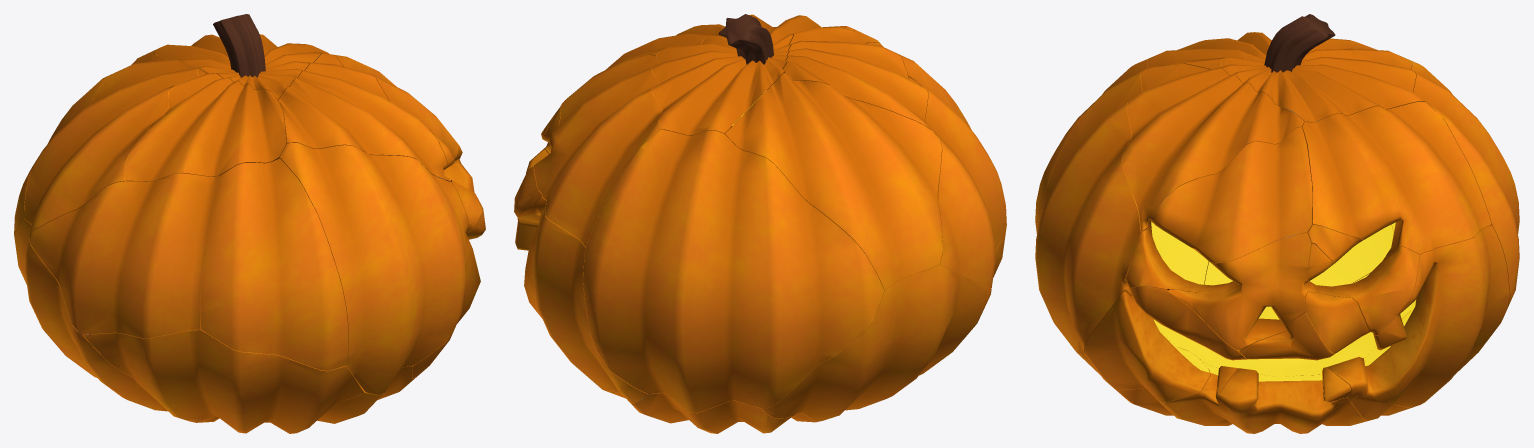
File: pumpkin_hollow_pieces.glb
3 views of the same model, side by side, from view 1: azimuth 30°, elevation 25°; view 2: azimuth 150°, elevation 25°; view 3: azimuth 270°, elevation 25° (orthographic). The views are drawn at different scales.
Visible parts, largest first — view 1: pumpkin_cell.011, pumpkin_cell.015, pumpkin_cell, pumpkin_cell.001, pumpkin_cell.010, pumpkin_cell.013, pumpkin_cell.014, pumpkin_cell.007, pumpkin_cell.021, pumpkin_cell.029, pumpkin_cell.018, pumpkin_cell.005 (+4 smaller); view 2: pumpkin_cell.020, pumpkin_cell.010, pumpkin_cell.007, pumpkin_cell.012, pumpkin_cell, pumpkin_cell.021, pumpkin_cell.016, pumpkin_cell.013, pumpkin_cell.019, pumpkin_cell.029, pumpkin_cell.014, pumpkin_cell.015 (+2 smaller); view 3: pumpkin_cell.012, pumpkin_cell.011, pumpkin_cell.016, pumpkin_cell.014, pumpkin_cell.018, pumpkin_cell.008, pumpkin_cell.021, pumpkin_cell.017, pumpkin_cell.024, pumpkin_cell.020, pumpkin_cell.005, pumpkin_cell.022 (+13 smaller).
Boxes of the visible parts, <box> form: pumpkin_cell.011: <box>279,143,468,394</box>; pumpkin_cell.015: <box>200,158,348,370</box>; pumpkin_cell: <box>29,173,220,338</box>; pumpkin_cell.001: <box>83,329,363,433</box>; pumpkin_cell.010: <box>24,55,199,236</box>; pumpkin_cell.013: <box>124,69,286,181</box>; pumpkin_cell.014: <box>278,53,450,181</box>; pumpkin_cell.007: <box>14,219,217,422</box>; pumpkin_cell.021: <box>156,34,322,99</box>; pumpkin_cell.029: <box>213,14,265,77</box>; pumpkin_cell.018: <box>332,54,457,168</box>; pumpkin_cell.005: <box>298,366,412,432</box>; pumpkin_cell.020: <box>583,129,884,412</box>; pumpkin_cell.010: <box>725,73,942,289</box>; pumpkin_cell.007: <box>762,265,991,421</box>; pumpkin_cell.012: <box>533,54,662,246</box>; pumpkin_cell: <box>908,77,1006,288</box>; pumpkin_cell.021: <box>651,29,793,135</box>; pumpkin_cell.016: <box>514,189,647,404</box>; pumpkin_cell.013: <box>767,27,935,134</box>; pumpkin_cell.019: <box>632,392,817,433</box>; pumpkin_cell.029: <box>718,14,773,64</box>; pumpkin_cell.014: <box>649,14,854,56</box>; pumpkin_cell.015: <box>866,42,971,129</box>; pumpkin_cell.012: <box>1302,101,1491,256</box>; pumpkin_cell.011: <box>1035,70,1152,352</box>; pumpkin_cell.016: <box>1327,225,1509,421</box>; pumpkin_cell.014: <box>1122,63,1304,230</box>; pumpkin_cell.018: <box>1152,127,1312,262</box>; pumpkin_cell.008: <box>1169,232,1318,350</box>; pumpkin_cell.021: <box>1220,49,1424,122</box>; pumpkin_cell.017: <box>1114,359,1364,433</box>; pumpkin_cell.024: <box>1084,291,1210,402</box>; pumpkin_cell.020: <box>1392,62,1519,308</box>; pumpkin_cell.005: <box>1077,304,1411,432</box>; pumpkin_cell.022: <box>1311,246,1419,335</box>.
Bounding box in the file's own units: 1.78 × 1.55 × 1.78.
2 materials, 1 textured.
